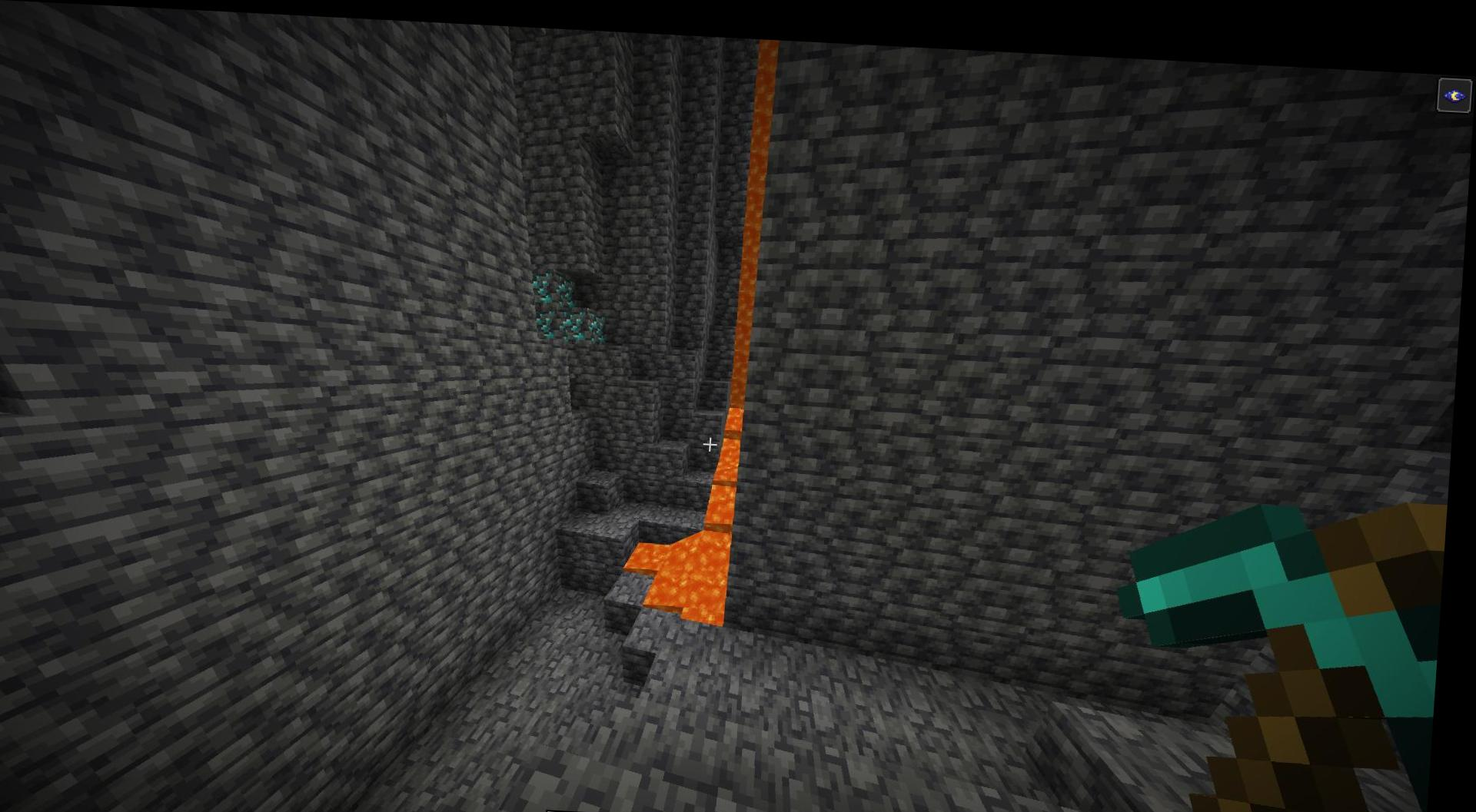diamond ore: (562, 298, 594, 339), (590, 301, 615, 343), (530, 265, 558, 297), (536, 302, 563, 334), (558, 269, 579, 298)
